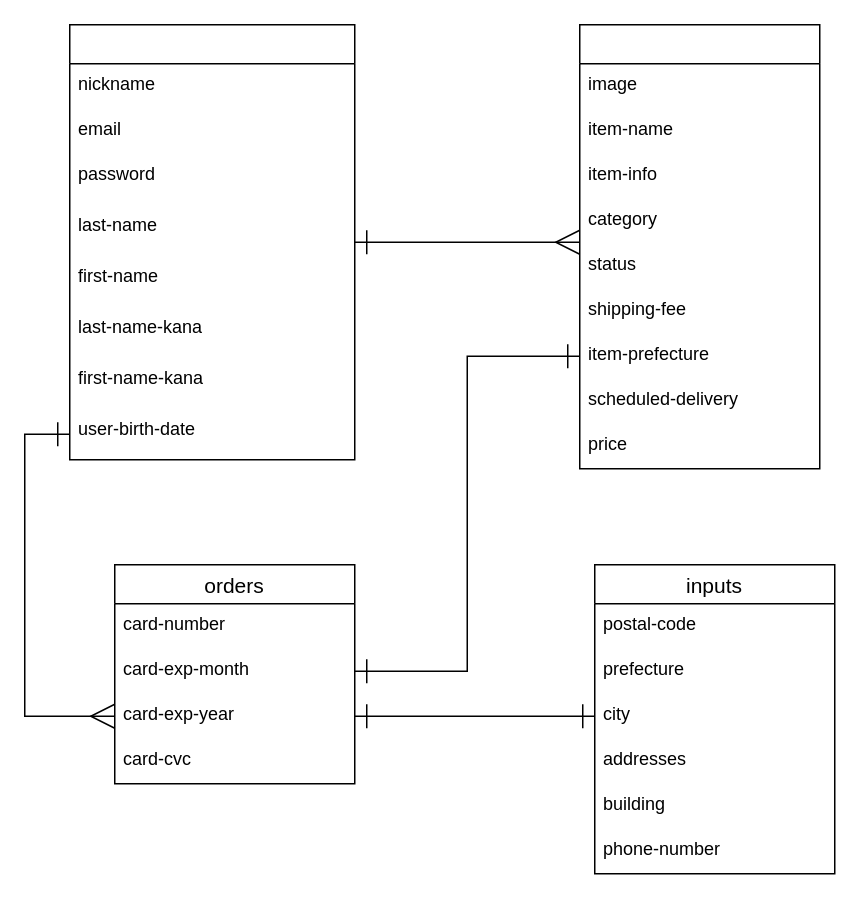
The diagram is 860 pixels wide and 899 high, and some of its shapes have lost their labels. The box of each missing label's shape, as (x1, y1, x2, y2) in pixels:
items: (578, 23, 820, 469)
users: (68, 23, 355, 460)
